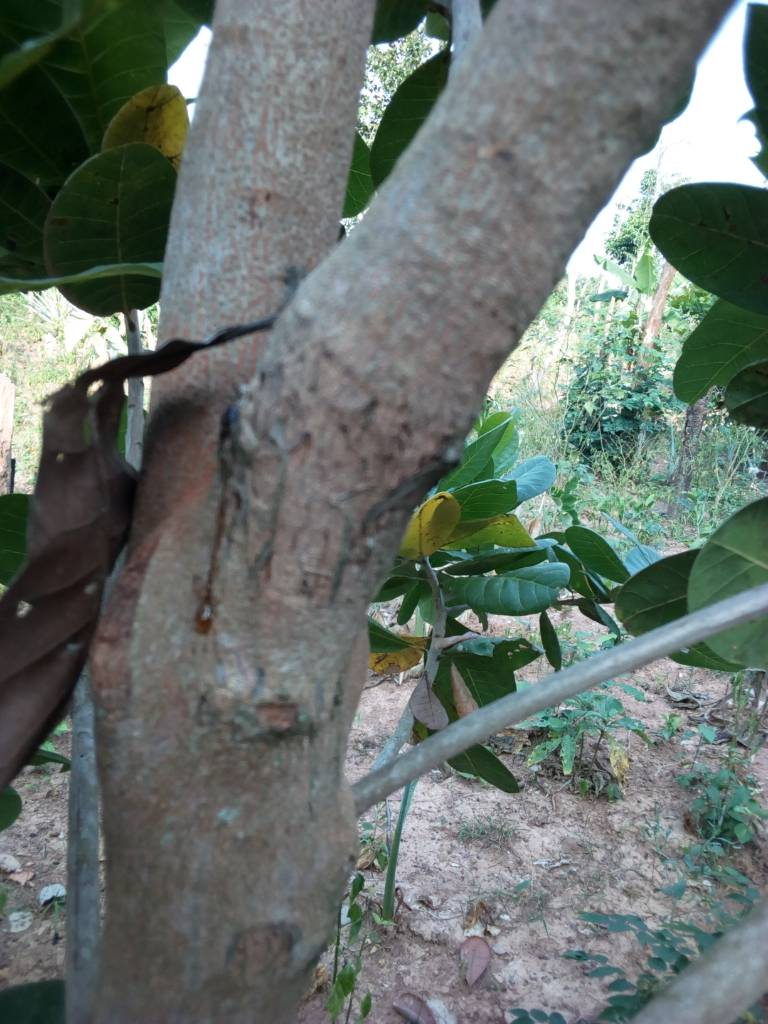Gommose: (186, 400, 241, 639)
